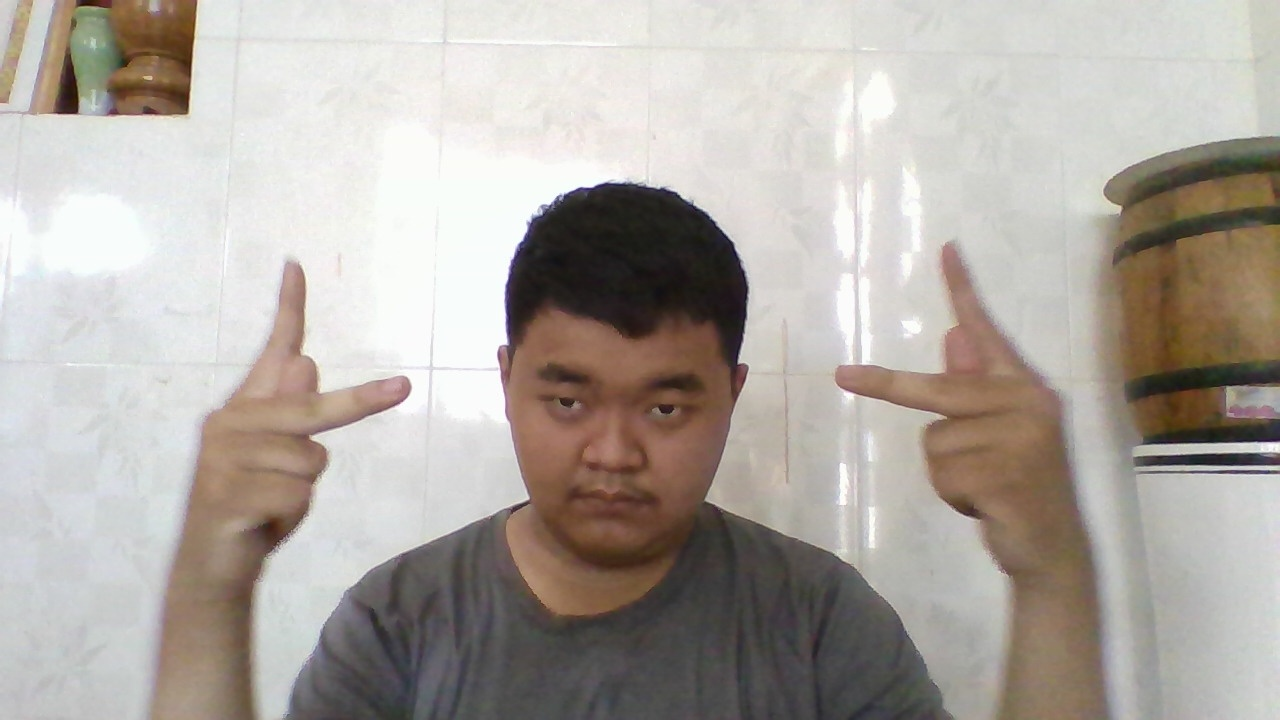K: (828, 240, 1071, 575), (194, 260, 412, 595)
